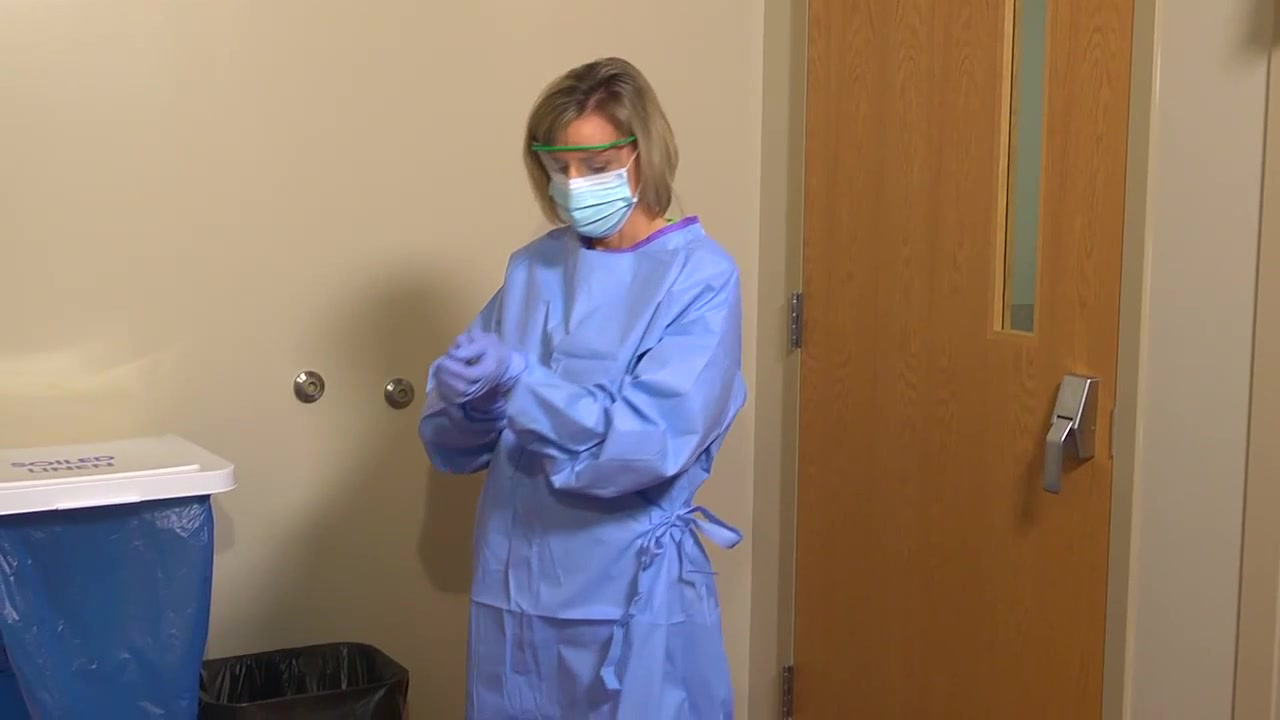Coverall: (431, 207, 755, 720)
Face_Shield: (507, 135, 646, 243)
Gloves: (420, 334, 515, 411)
with_mask: (549, 164, 636, 239)
